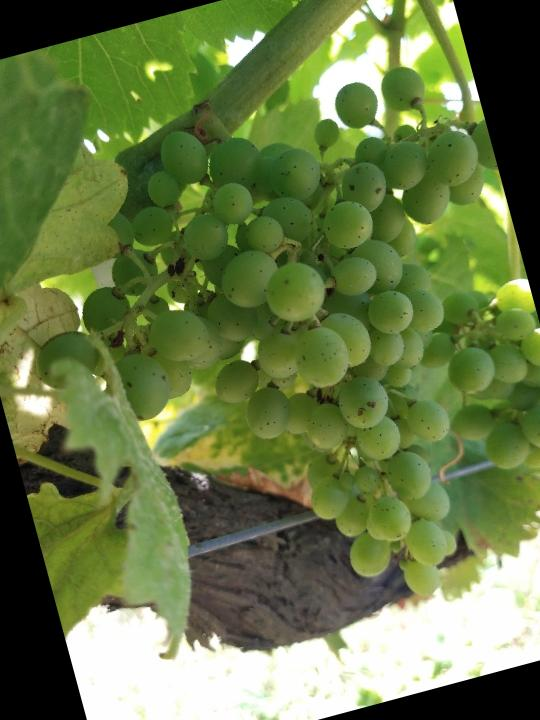grape: (0, 46, 540, 681)
